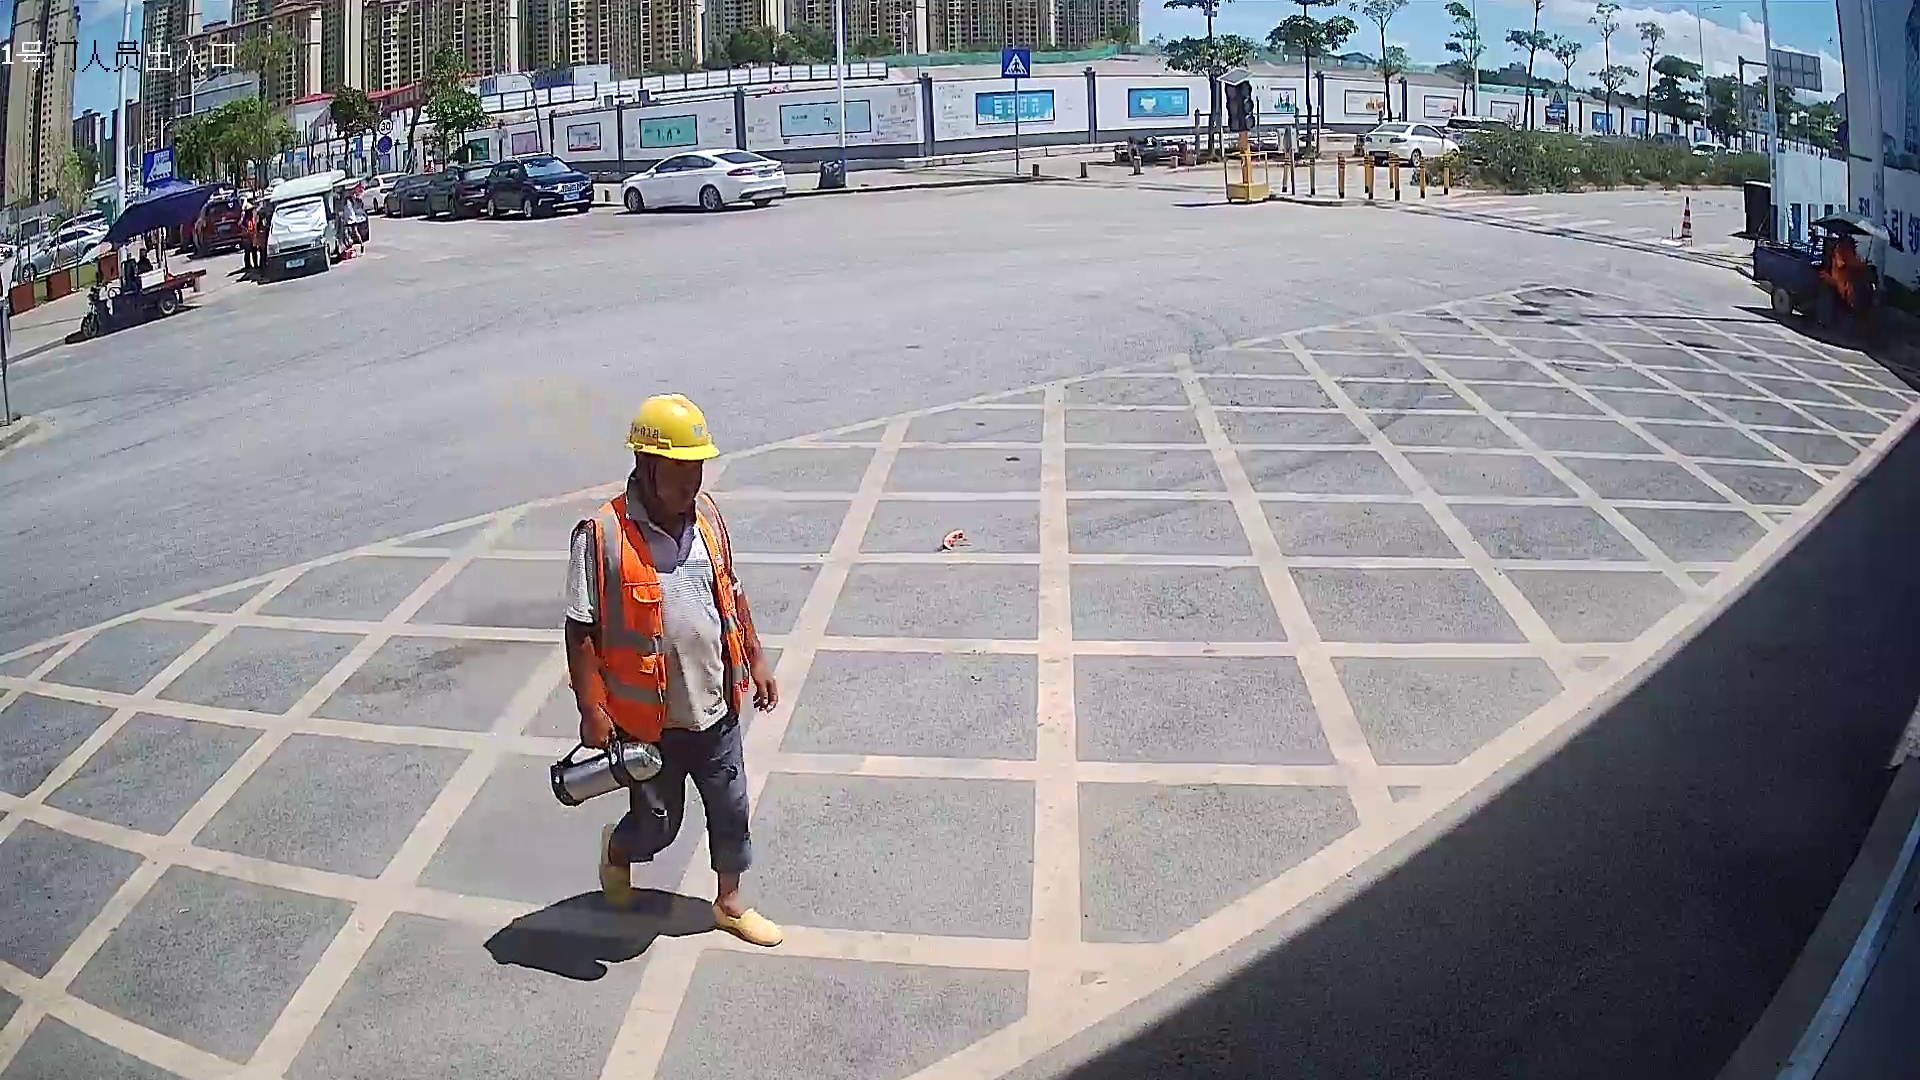person: (556, 388, 788, 949)
reflective_vest: (562, 489, 747, 744)
safety_helmet: (626, 391, 720, 514)
